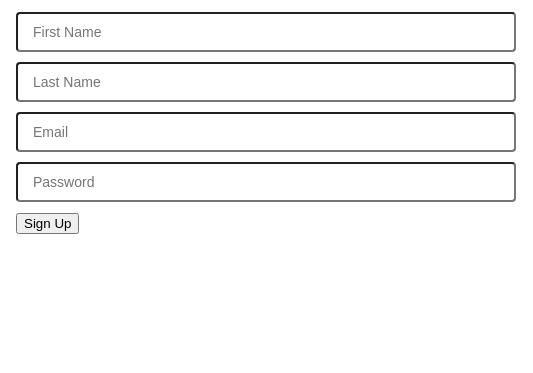
it: SignUpForm component › shows email is invalid when email has no @
The image size is (533, 373).
Type "test" into the field with placeholder "Email". click: (266, 132)
box: [16,112,516,152]
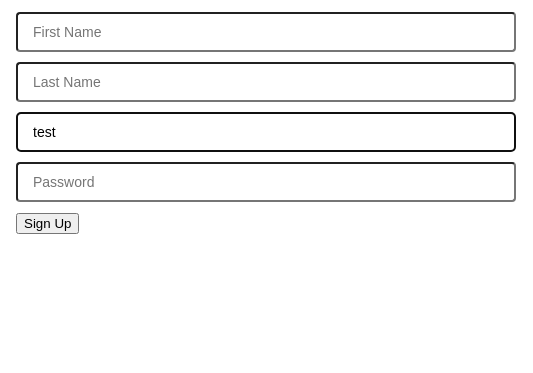
Click the button "Sign Up". click: (48, 224)
box: [16,213,79,234]
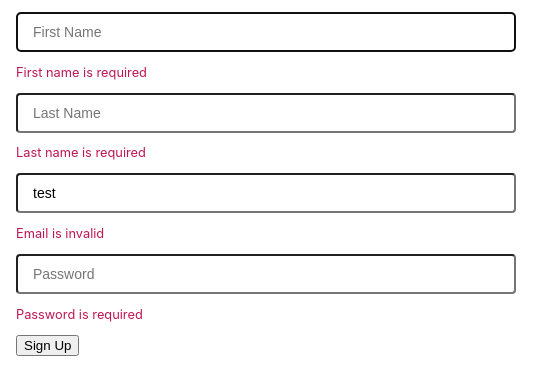
Check: the text "Email is invalid" is shown, box [16,226,104,241]
